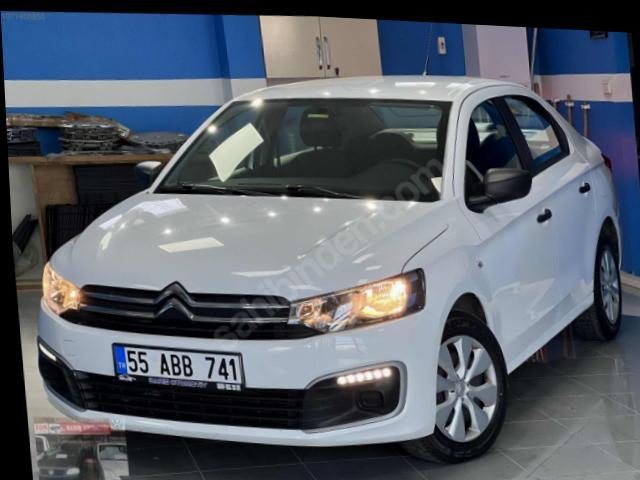plaka: (114, 345, 243, 389)
